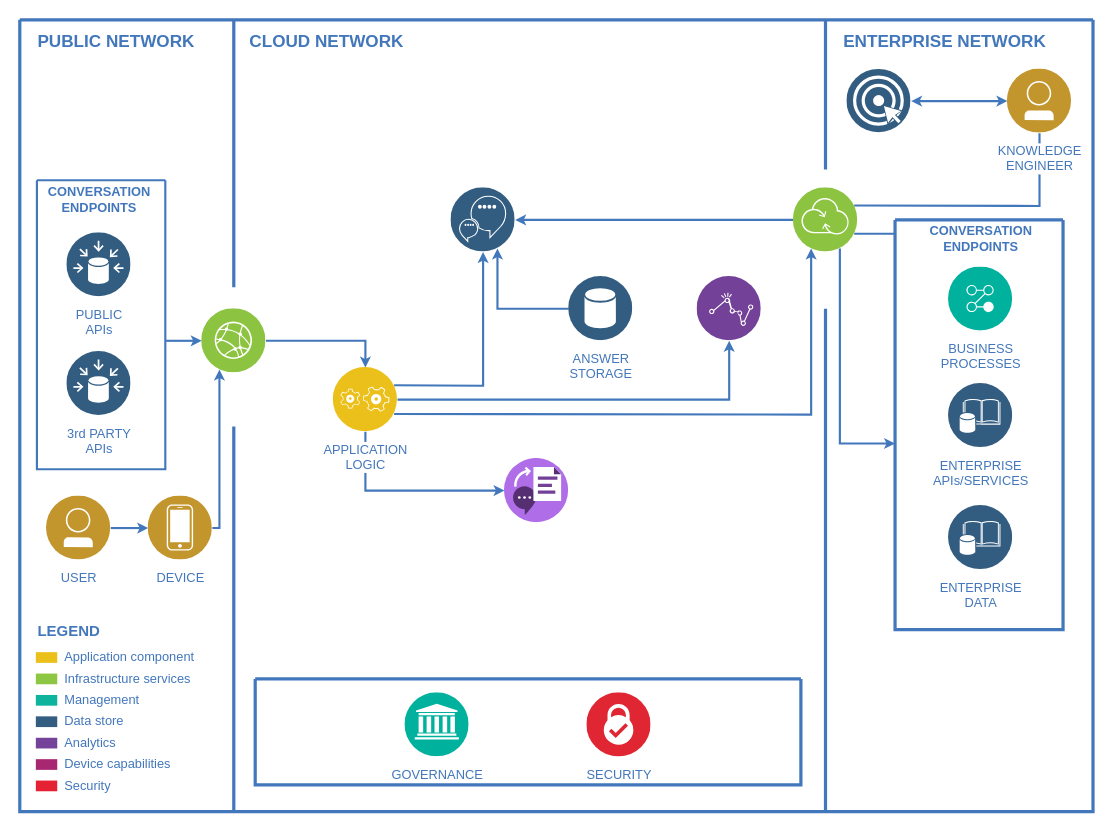
The diagram is 1113 pixels wide and 831 high, and some of its shapes have lost their labels. Each missing label, with the centre of its shape:
CONVERSATION (Trained & Deployed): [482,219]
DISCOVERY SERVICE: [729,308]
EDGE SERVICES: [233,340]
GROUND TRUTH: [878,100]
SPEECH TO TEXT: [536,490]
TRANSFORMATION & CONNECTIVITY: [825,219]
